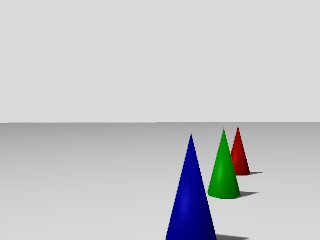blue: (164, 133, 218, 240)
green: (207, 128, 242, 201)
red: (228, 126, 250, 177)
